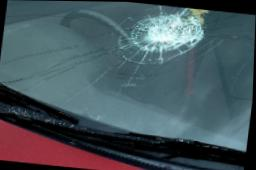Windshield: (0, 0, 256, 142)
